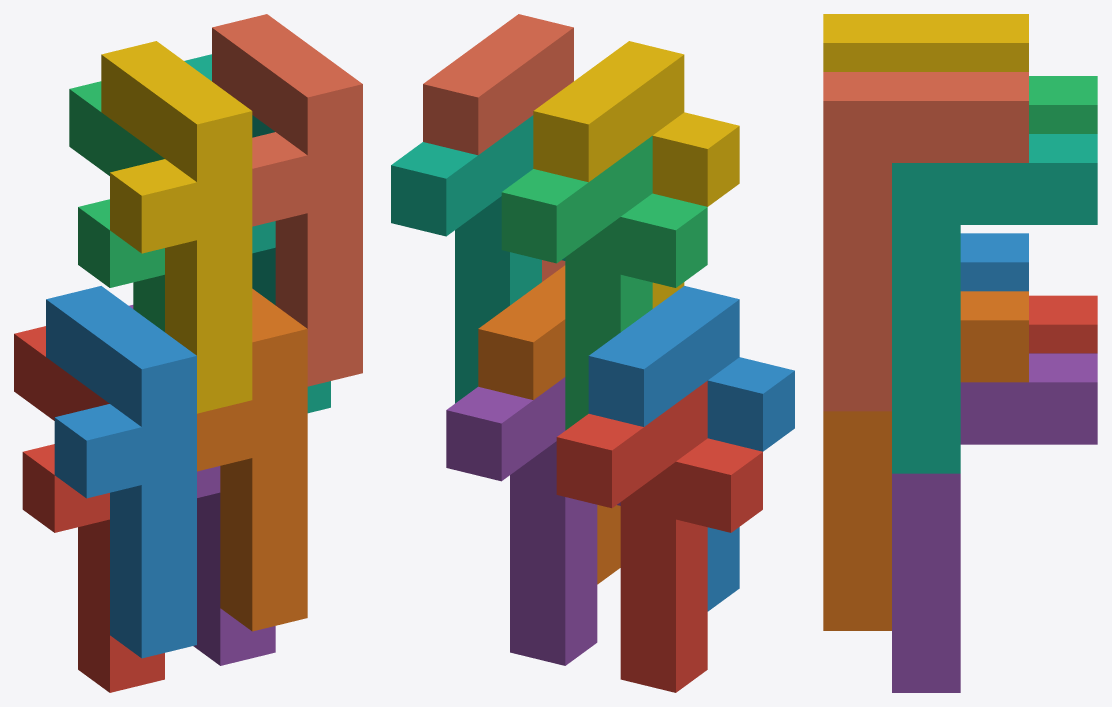
File: tiling.obj
3 renders of one model, left to right at view 1: azimuth 30°, elevation 25°; view 2: azimuth 150°, elevation 25°; view 3: azimuth 270°, elevation 25°, orthographic. The views are drawn at different scales.
Parts seen in each view (by area): view 1: copy_1_domain_2, copy_1_domain_4, copy_1_domain_8, copy_1_domain_6, copy_1_domain_1, copy_1_domain_3, copy_1_domain_5, copy_1_domain_7; view 2: copy_1_domain_1, copy_1_domain_3, copy_1_domain_5, copy_1_domain_2, copy_1_domain_4, copy_1_domain_7, copy_1_domain_8, copy_1_domain_6; view 3: copy_1_domain_8, copy_1_domain_7, copy_1_domain_5, copy_1_domain_6, copy_1_domain_4, copy_1_domain_1, copy_1_domain_2, copy_1_domain_3.
Boxes of the visible parts, bbox=[...] form: copy_1_domain_2: bbox=[46, 286, 196, 658]; copy_1_domain_4: bbox=[101, 41, 252, 413]; copy_1_domain_8: bbox=[212, 14, 362, 386]; copy_1_domain_6: bbox=[197, 288, 307, 631]; copy_1_domain_1: bbox=[14, 326, 164, 692]; copy_1_domain_3: bbox=[69, 81, 164, 331]; copy_1_domain_5: bbox=[129, 305, 275, 665]; copy_1_domain_7: bbox=[184, 54, 330, 413]; copy_1_domain_1: bbox=[556, 381, 762, 692]; copy_1_domain_3: bbox=[501, 136, 707, 430]; copy_1_domain_5: bbox=[446, 377, 620, 665]; copy_1_domain_2: bbox=[588, 286, 794, 611]; copy_1_domain_4: bbox=[533, 41, 739, 308]; copy_1_domain_7: bbox=[391, 115, 565, 403]; copy_1_domain_8: bbox=[423, 14, 573, 281]; copy_1_domain_6: bbox=[478, 265, 620, 584]; copy_1_domain_8: bbox=[823, 72, 1028, 411]; copy_1_domain_7: bbox=[892, 134, 1097, 473]; copy_1_domain_5: bbox=[892, 353, 1097, 692]; copy_1_domain_6: bbox=[823, 291, 1028, 630]; copy_1_domain_4: bbox=[823, 14, 1028, 71]; copy_1_domain_1: bbox=[1029, 295, 1097, 353]; copy_1_domain_2: bbox=[960, 233, 1028, 291]; copy_1_domain_3: bbox=[1029, 76, 1097, 133].
Bounding box in the file's own units: 5 × 10 × 4.
